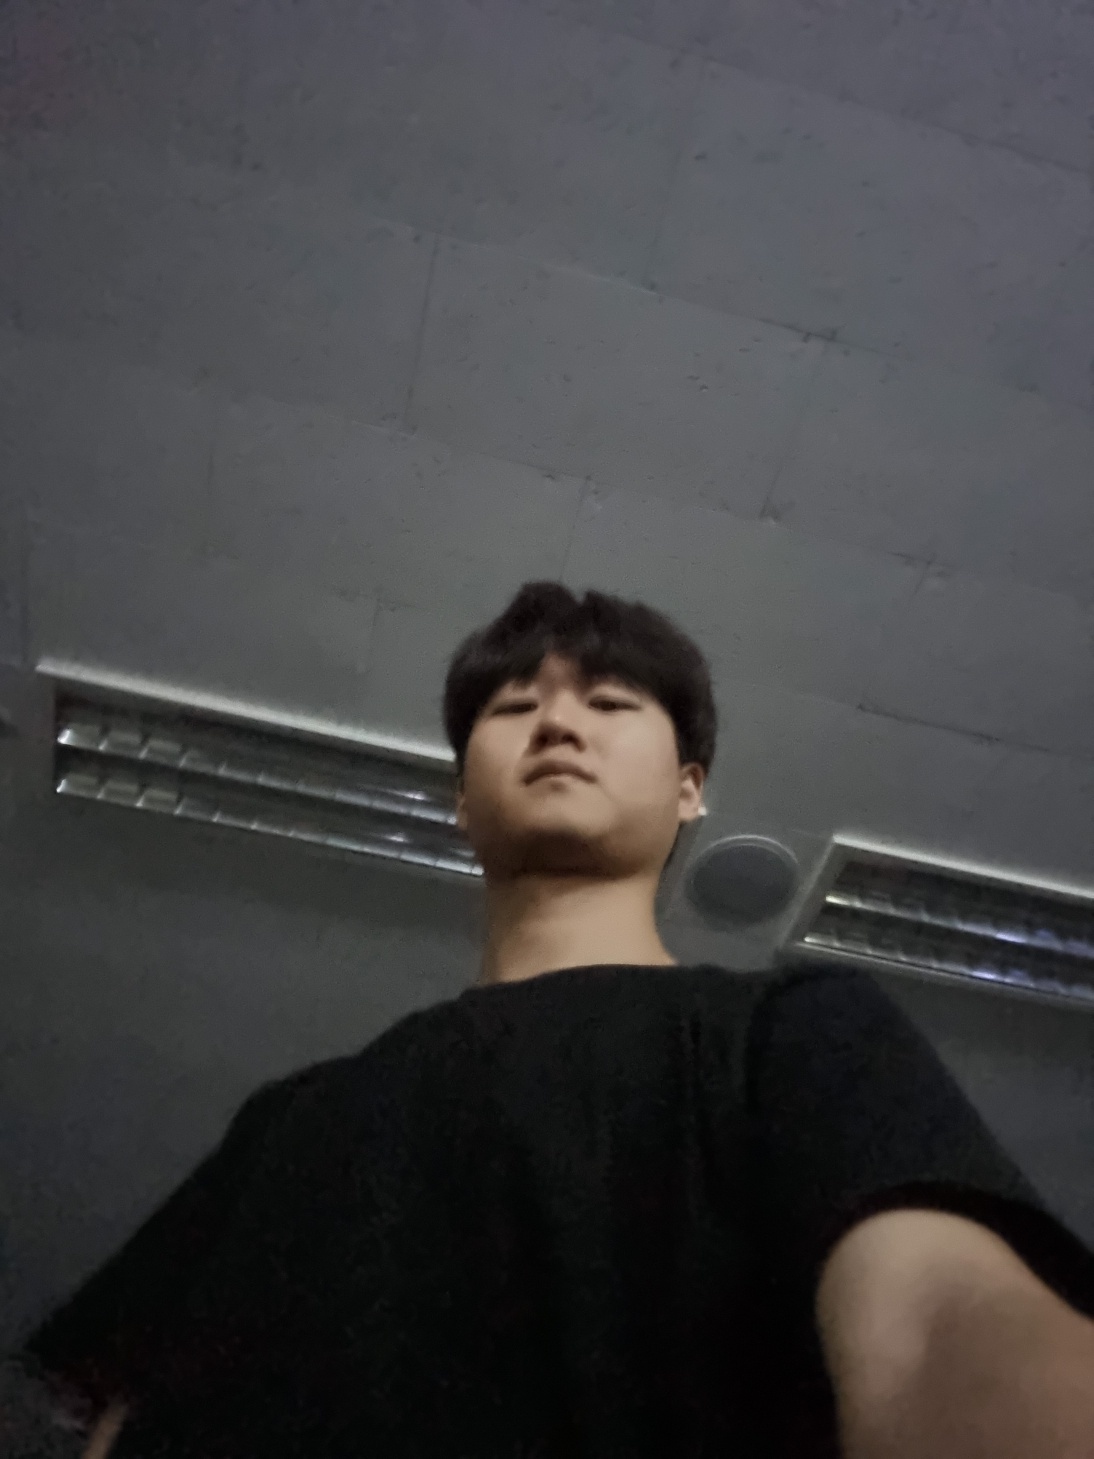Non-Helmet: (362, 545, 784, 916)
